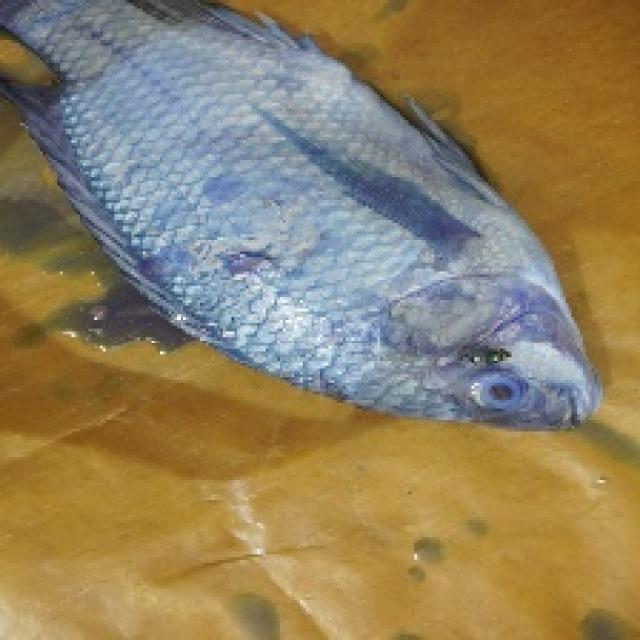Non-Fresh: (457, 334, 546, 431)
